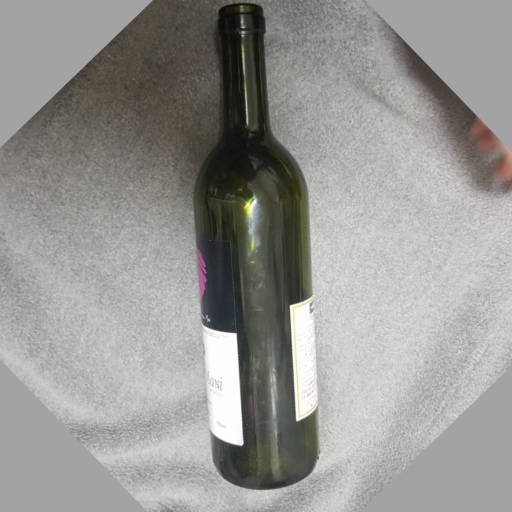Glass_2: (186, 1, 329, 490)
